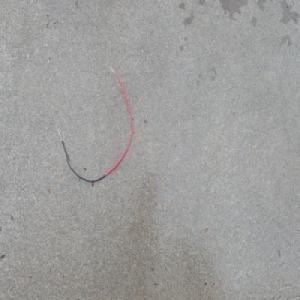Wire: (56, 64, 133, 183)
